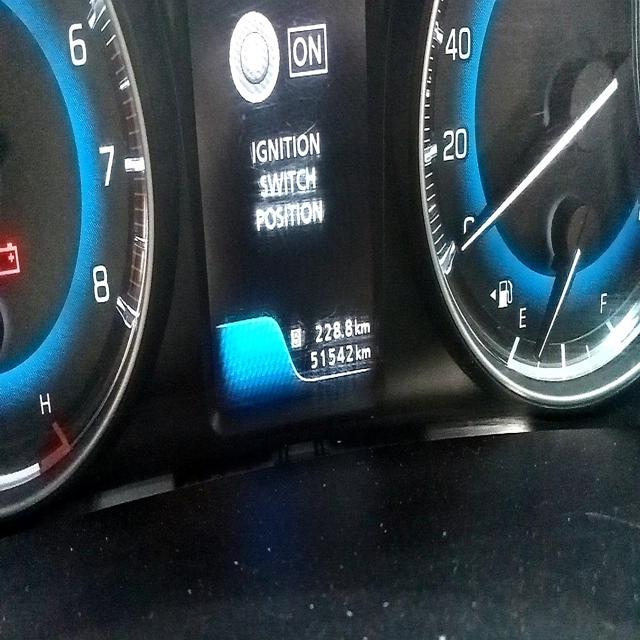odometer: (306, 344, 357, 375)
